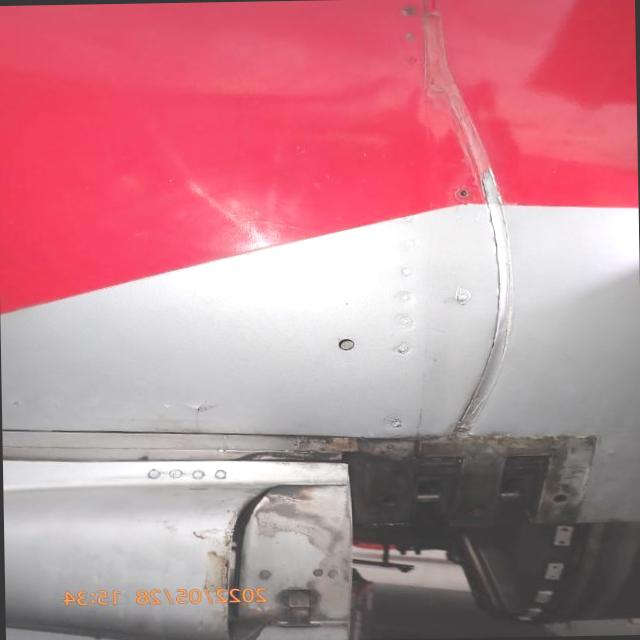Missing Fastener: (448, 181, 476, 206)
